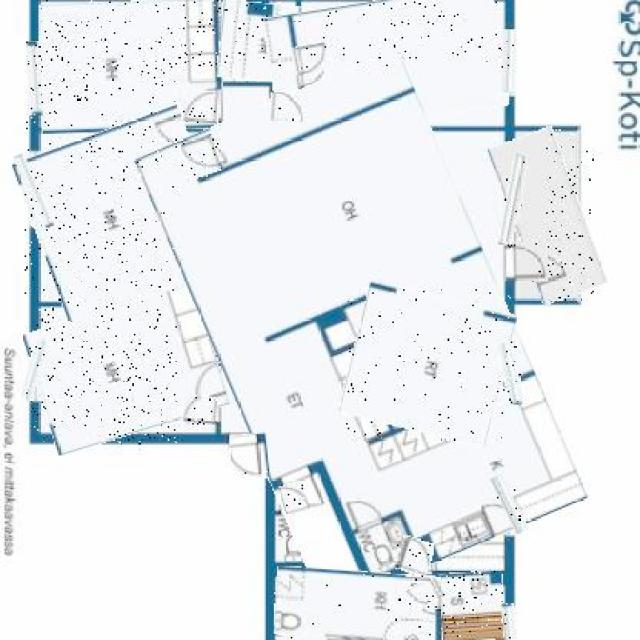door: (229, 432, 269, 480), (504, 242, 548, 282), (182, 135, 222, 177), (397, 538, 432, 576), (292, 44, 332, 76), (183, 92, 219, 123), (269, 92, 305, 121), (408, 582, 446, 609), (183, 397, 217, 425), (280, 481, 308, 514)
window: (502, 154, 524, 246), (22, 153, 46, 230), (497, 474, 521, 535), (26, 40, 43, 115), (24, 337, 44, 400), (500, 342, 520, 404), (501, 31, 517, 95), (503, 603, 517, 640)
zone: (177, 66, 546, 591), (24, 117, 224, 314), (266, 0, 505, 131), (30, 296, 222, 444), (346, 289, 511, 440), (38, 0, 221, 132), (501, 129, 594, 302), (274, 569, 435, 640), (218, 2, 298, 82), (439, 571, 503, 640)
